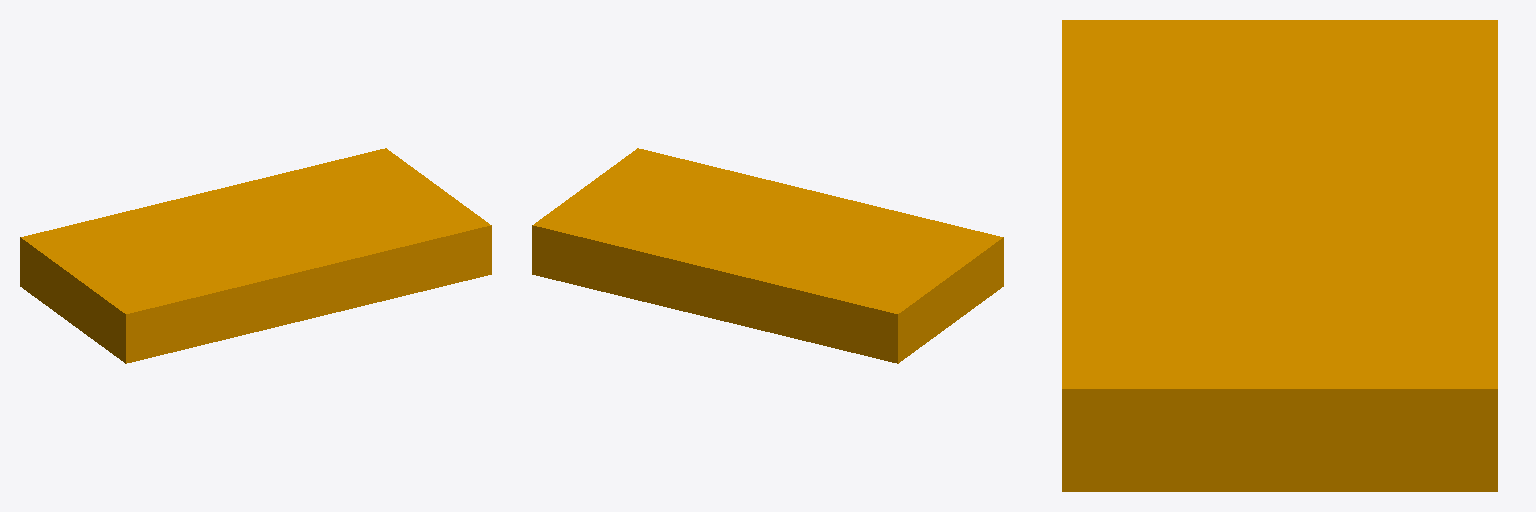
URDF robot description (surface):
<?xml version="1.0"?>
<robot name="surface">
  <link name="base_link">

    <collision>
      <geometry>
        <box size="7.75 3.87 1"/>
      </geometry>
    </collision>

    <inertial>
      <mass value="50"/>
    	<inertia ixx="108" ixy="0" ixz="0" iyy="421" iyz="0" izz="521"/>
  	</inertial>

    <visual>
      <geometry>
        <box size="7.75 3.87 1"/>
      </geometry>
    </visual>

  </link>
</robot>

--- What the picture shows (computed from the rendered views, not written in the file) ---
3 views of the same robot in one strip: view 1: azimuth 30°, elevation 25°; view 2: azimuth 150°, elevation 25°; view 3: azimuth 270°, elevation 25° (orthographic).
Model surface with 1 links and 0 joints (none), rooted at base_link, posed every joint at zero.
Visible links, largest first — view 1: base_link; view 2: base_link; view 3: base_link.
Link boxes in pixels (x1=…): base_link: x1=20, y1=148, x2=491, y2=363; base_link: x1=532, y1=148, x2=1003, y2=363; base_link: x1=1062, y1=20, x2=1497, y2=491.
Size in the robot's own frame: 7.75 by 3.87 by 1 metres.
Geometry: primitives only (box / cylinder / sphere), no mesh files.